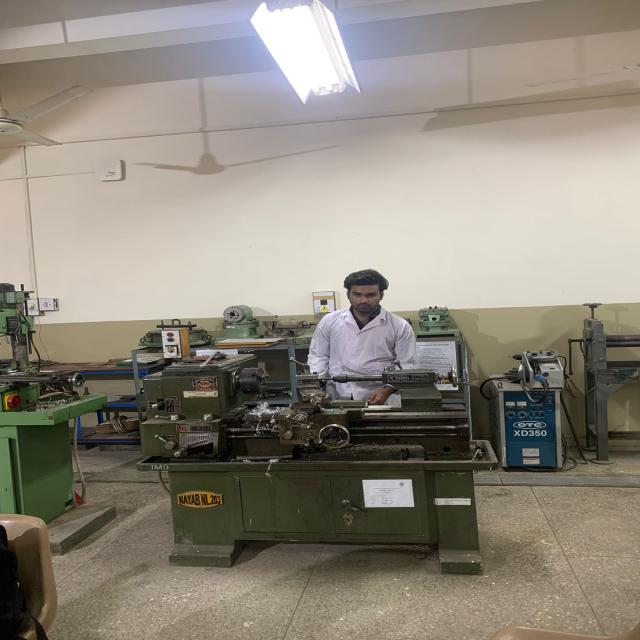labcoat: (305, 304, 418, 407)
